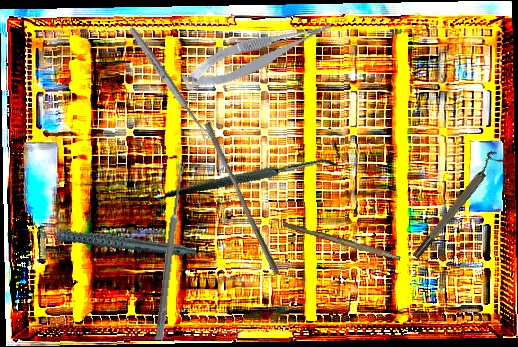Fixation Ring: (406, 147, 506, 262)
Handpiece: (30, 191, 199, 289)
Hook Surgical: (164, 101, 344, 241)
Micro Scissor: (175, 14, 343, 96)
Pusher: (198, 121, 286, 276)
Scalpel Handle: (282, 221, 402, 261)
Surgical Spoon: (127, 25, 212, 142), (155, 162, 186, 341)
